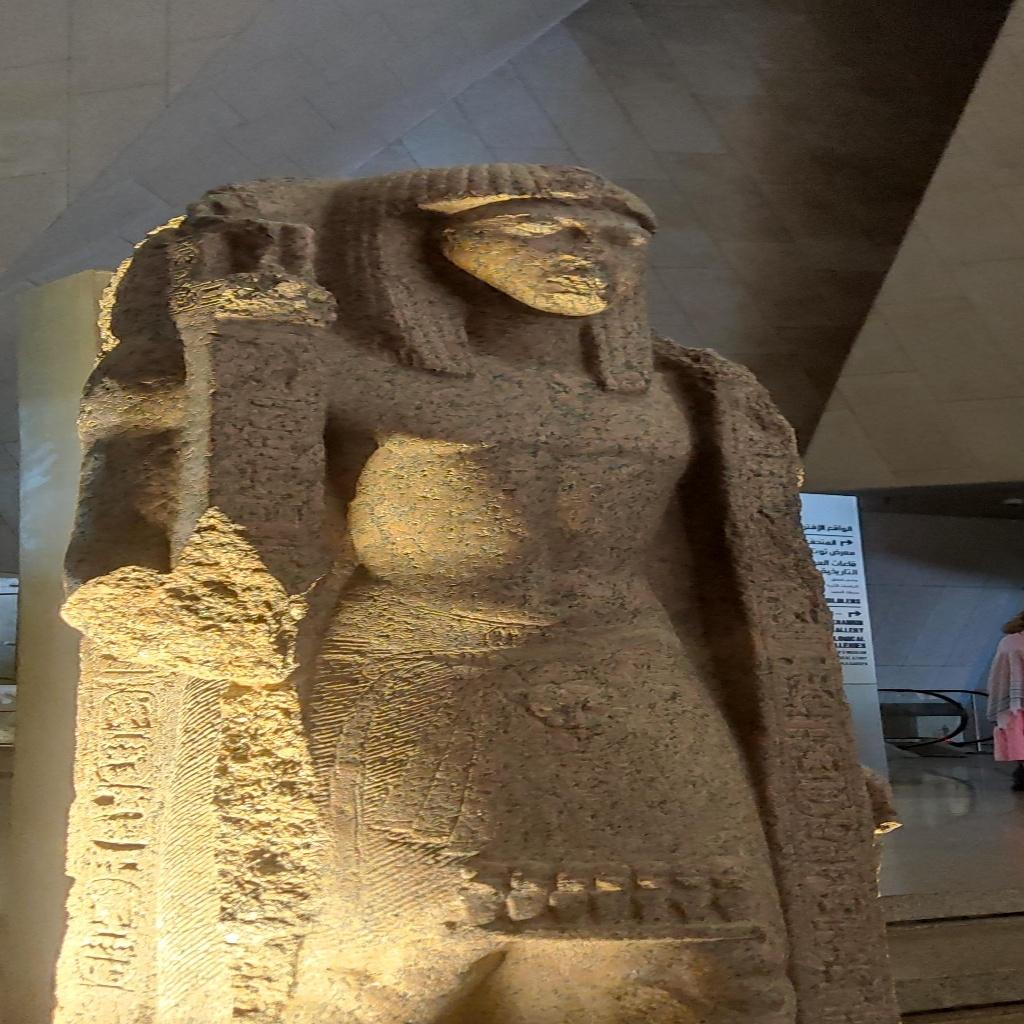Statue of Merenptah as standard Bearer: (52, 160, 824, 1021)
